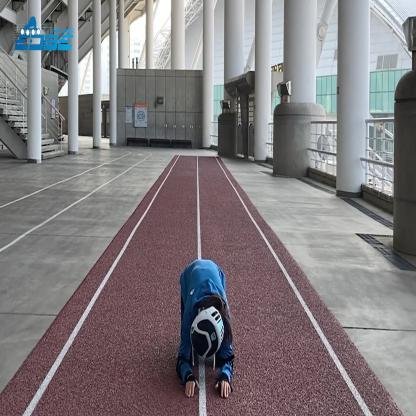Fall_Down: (178, 255, 235, 399)
